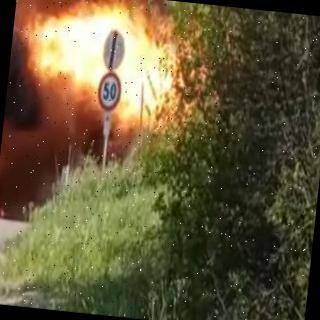smoke: (0, 99, 104, 233)
